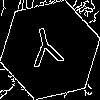Y: (25, 25, 67, 77)
